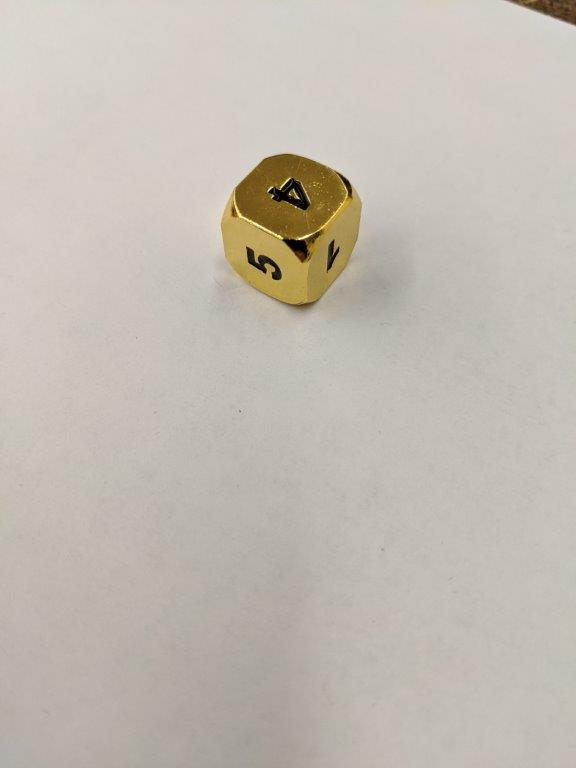d6-4: (219, 154, 361, 308)
